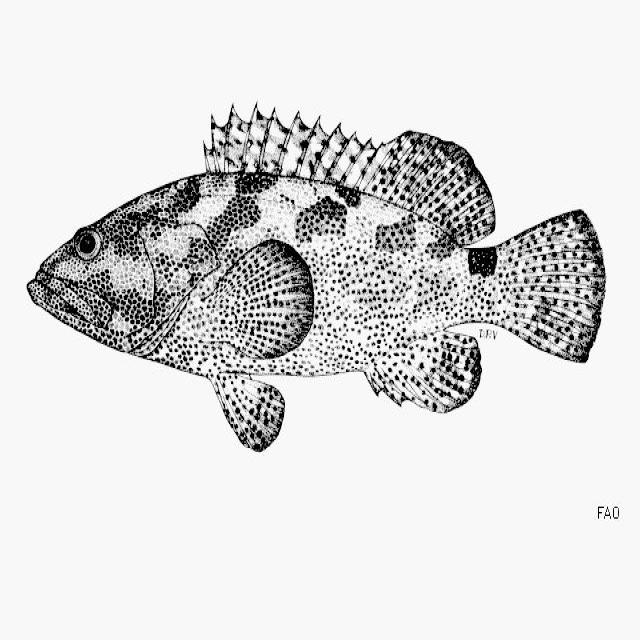ikan: (26, 100, 606, 452)
